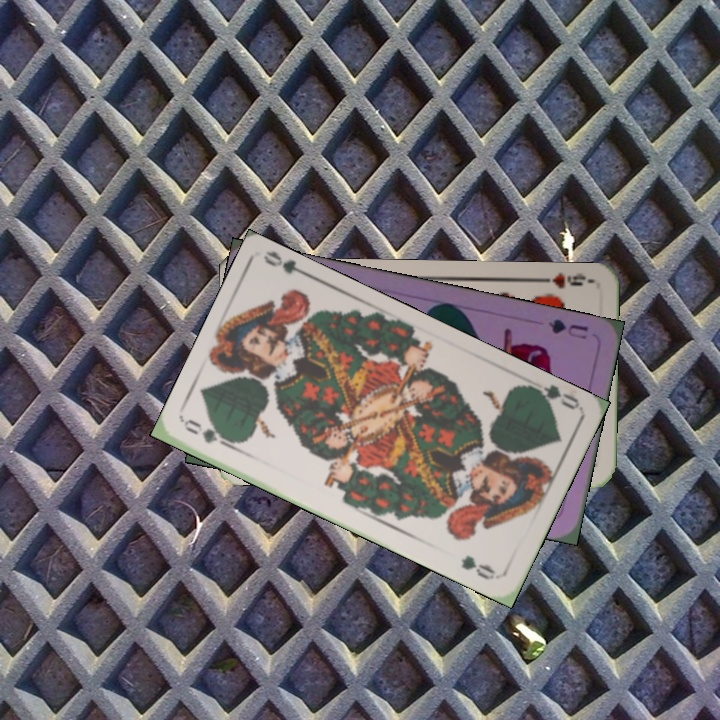GO: (181, 415, 240, 452), (523, 380, 581, 413)
GU: (544, 314, 591, 342)
H9: (534, 269, 593, 291)
